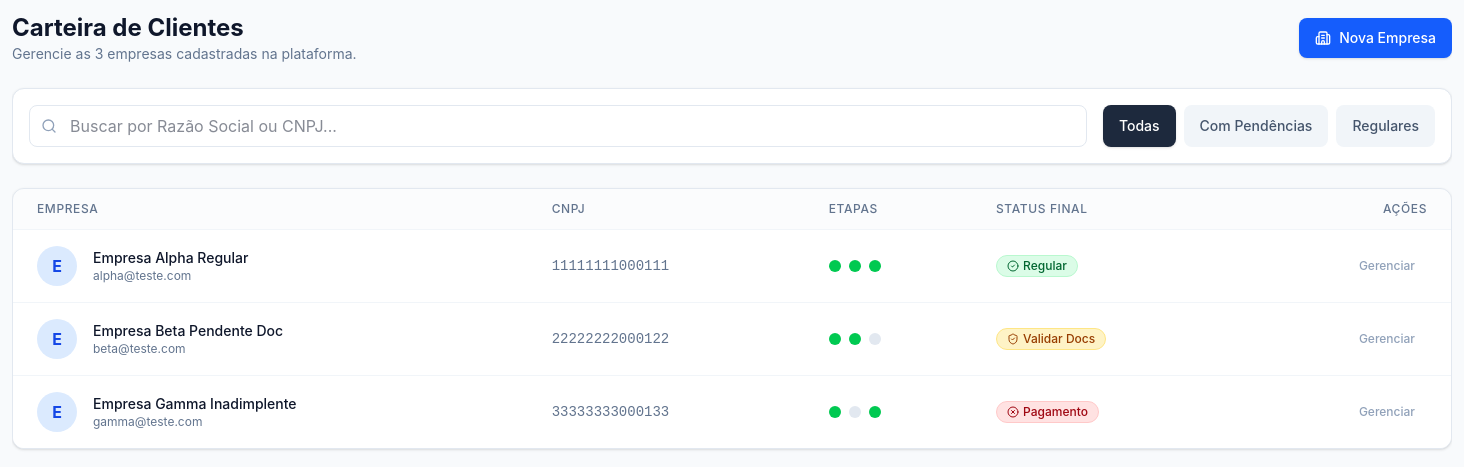
Test: AdminCompaniesPage Integration › deve filtrar as empresas pela barra de pesquisa
Expected: the text "Empresa Alpha Regular" is shown, top-left (93, 248), bottom-right (248, 268)
Pesquisa por CNPJ
Step 1. Type "22222222000122" into the field with placeholder "Buscar por Razão Social ou CNPJ..." → (558, 126), box top-left (29, 105), bottom-right (1087, 147)
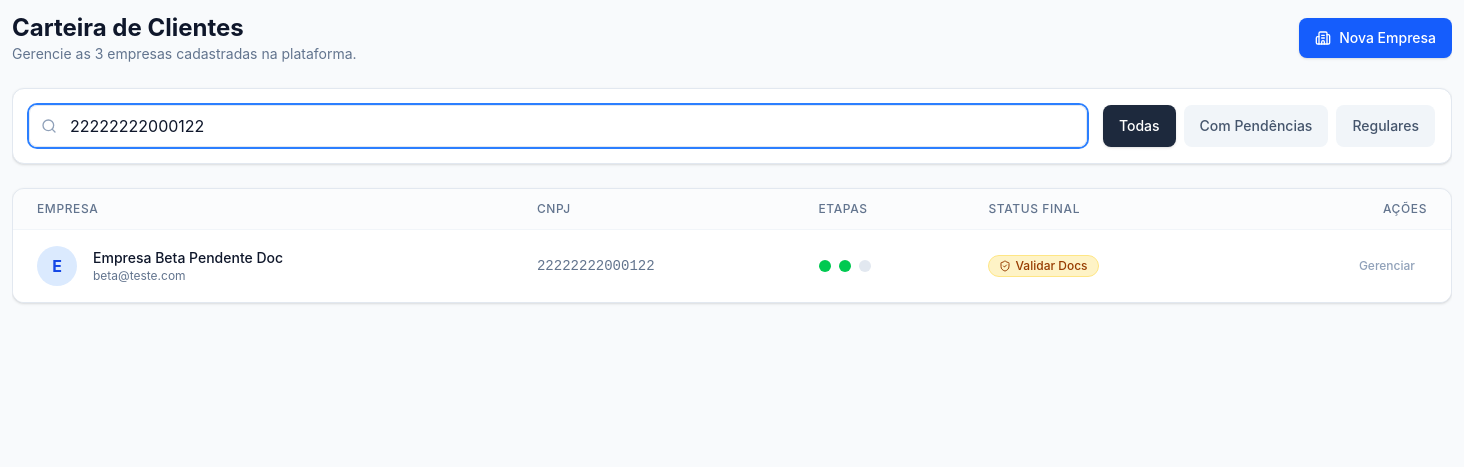
Expected: the text "Empresa Beta Pendente Doc" is shown, top-left (93, 248), bottom-right (283, 268)
Result: the text "Empresa Alpha Regular" is gone
